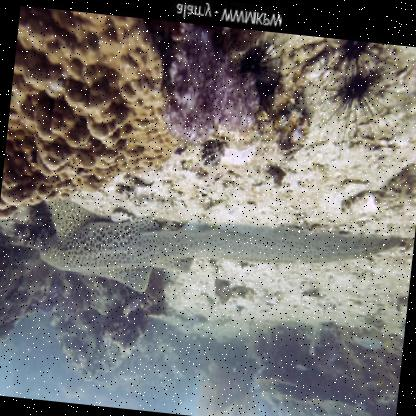zebra_shark: (12, 157, 414, 357)
